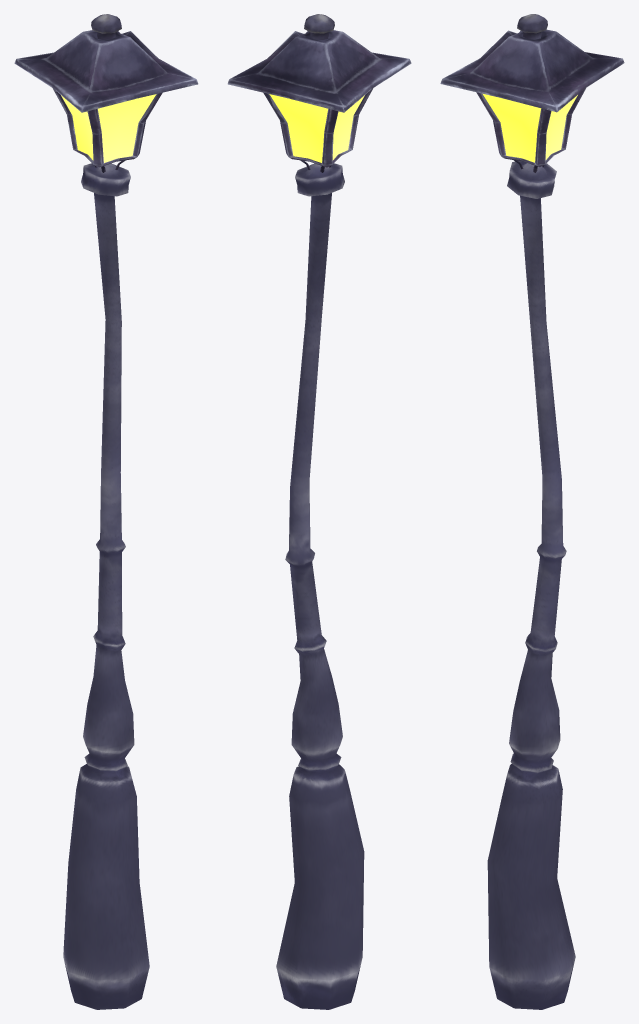
File: Vintage_Lamp_Post.glb
3 renders of one model, left to right at view 1: azimuth 30°, elevation 25°; view 2: azimuth 150°, elevation 25°; view 3: azimuth 330°, elevation 25°, orthographic.
Parts seen in each view (by area): view 1: LampPost_001; view 2: LampPost_001; view 3: LampPost_001.
Boxes of the visible parts, x1=… form: LampPost_001: x1=14, y1=14, x2=198, y2=1009; LampPost_001: x1=227, y1=14, x2=411, y2=1009; LampPost_001: x1=440, y1=14, x2=624, y2=1009.
Bounding box in the file's own units: 0.4484 × 3.6 × 0.4484.
Materials: 2 (1 with a texture image).
